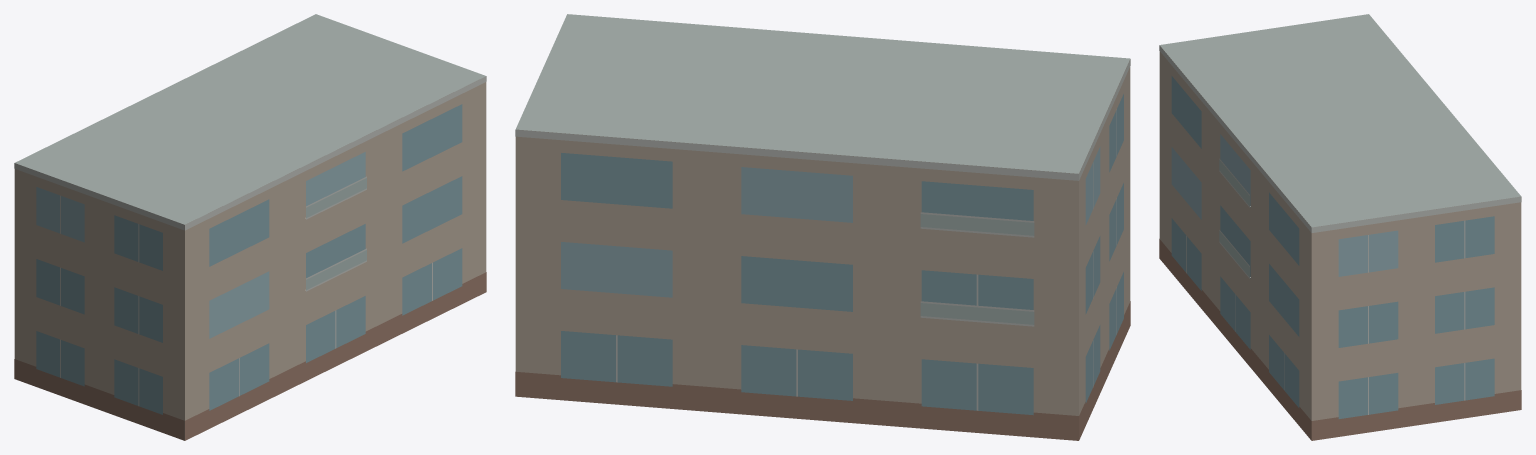
Rendered from survey-upis-32721275.glb.
3 renders of one model, left to right at view 1: azimuth 30°, elevation 25°; view 2: azimuth 150°, elevation 25°; view 3: azimuth 270°, elevation 25°, orthographic. The views are drawn at different scales.
Parts seen in each view (by area): view 1: survey-upis-32721275.tmp; view 2: survey-upis-32721275.tmp; view 3: survey-upis-32721275.tmp.
Boxes of the visible parts, x1=… form: survey-upis-32721275.tmp: x1=14, y1=14, x2=486, y2=440; survey-upis-32721275.tmp: x1=515, y1=14, x2=1130, y2=440; survey-upis-32721275.tmp: x1=1159, y1=14, x2=1521, y2=440.
Size of the model in its own units: 19.64 by 9.15 by 14.08.
